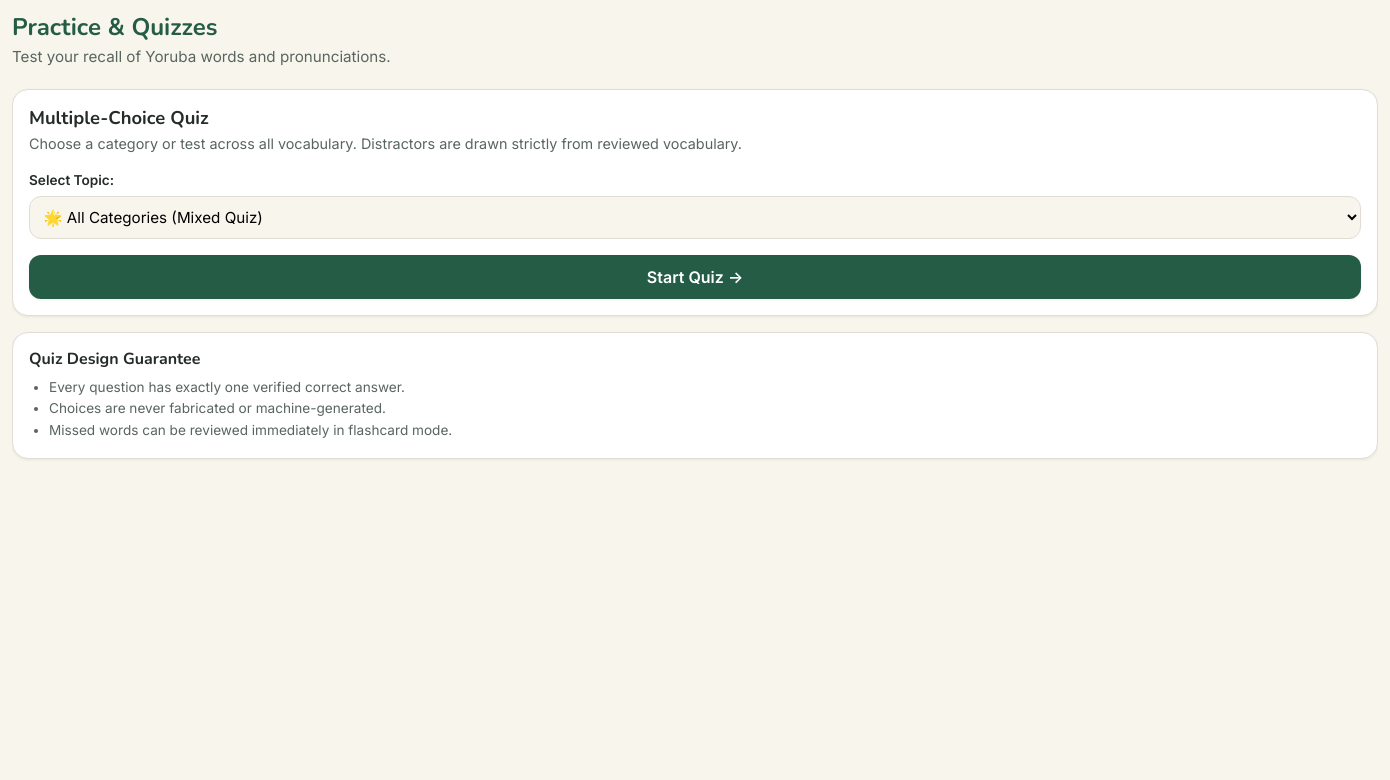
Test: Practice & Quiz Screen Workflow › provides instant feedback on answer selection and calculates score
Click the button "Start Quiz →": (695, 277) [29, 255, 1361, 299]
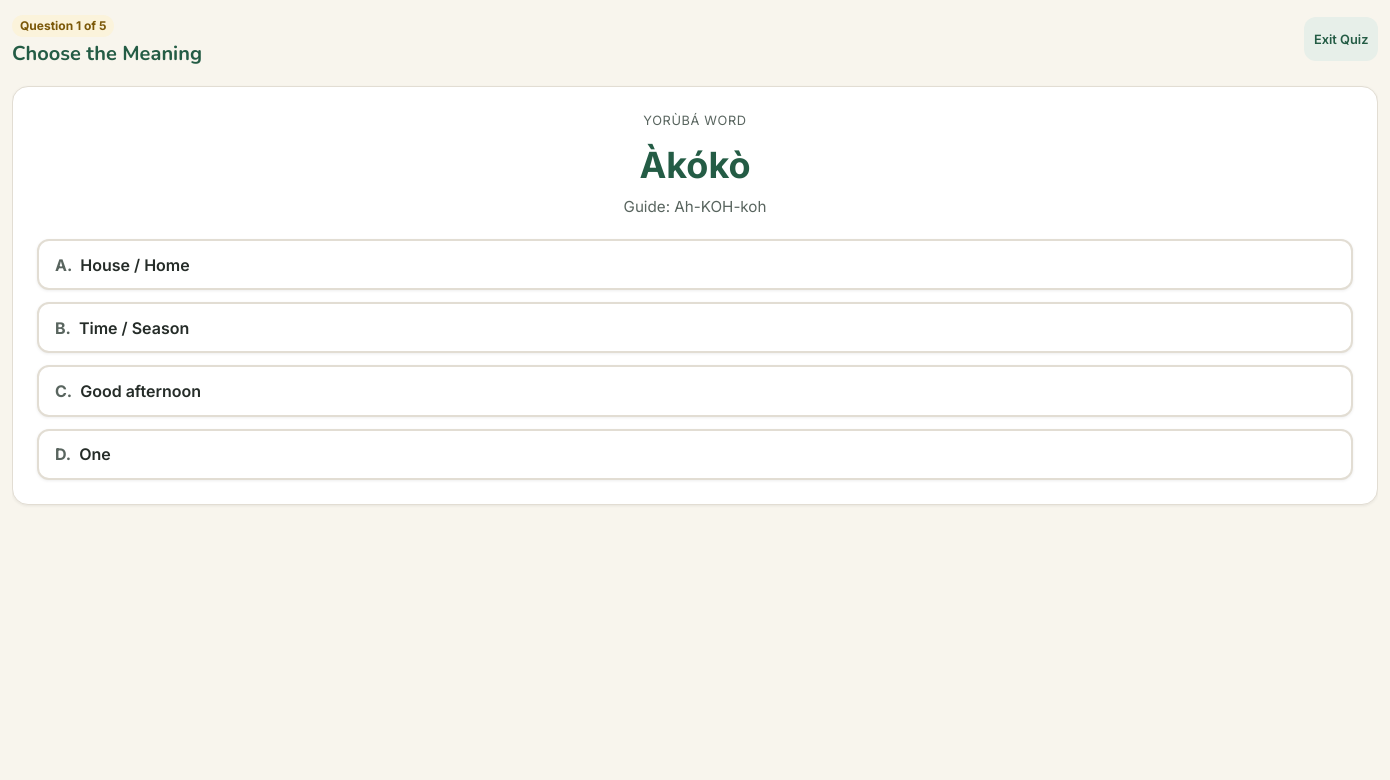
# Click the first choice
Click the button "A. House / Home": (135, 265) [37, 239, 1353, 290]
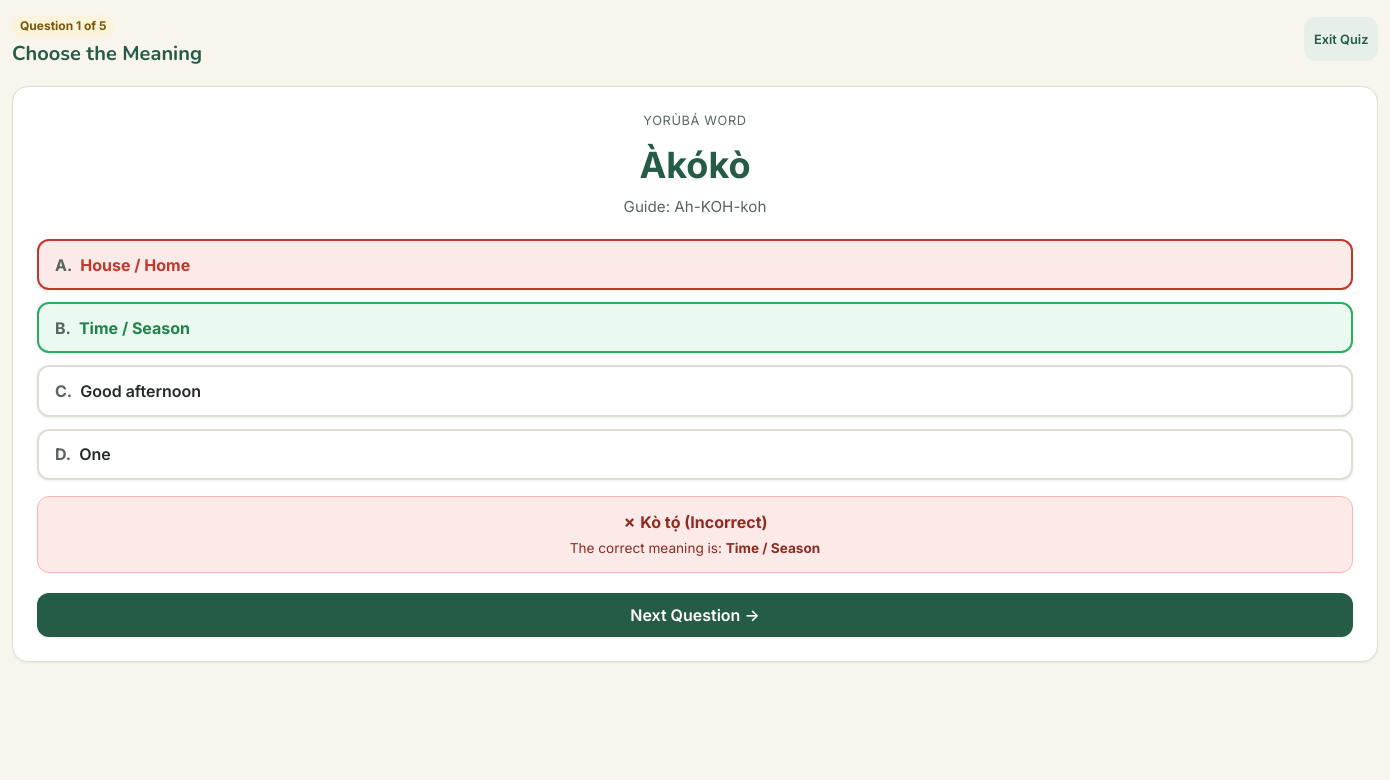
Expected: the message "✗ Kò tọ́ (Incorrect) The correct meaning is: Time / Season" is shown, [37, 496, 1353, 573]
Expected: the button "Next Question →" is shown, [37, 593, 1353, 637]
